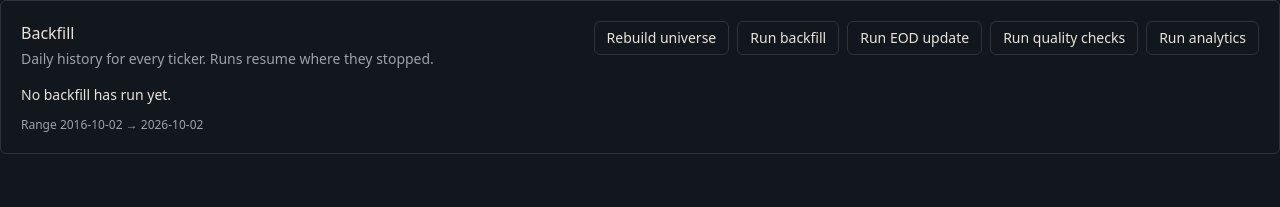
BackfillPanel › queues a job and reports a conflict in plain words
expect the text "No backfill has run yet." is shown: met, box [21, 85, 171, 104]
Click the button "Run backfill" at (788, 38), box [737, 21, 839, 55]
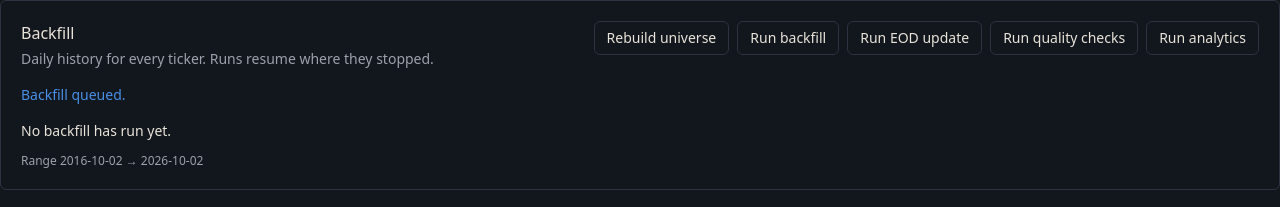
expect the text "Backfill queued." is shown: met, box [21, 85, 126, 104]
Click the button "Run EOD update" at (915, 38), box [847, 21, 982, 55]
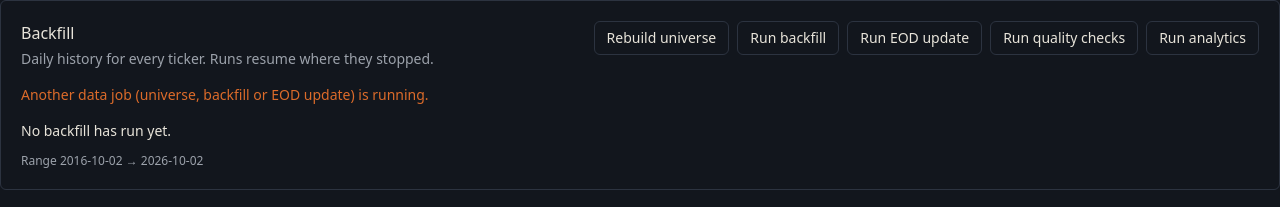
expect the text "Another data job (universe, backfill or EOD update) is running." is shown: met, box [21, 85, 429, 104]
